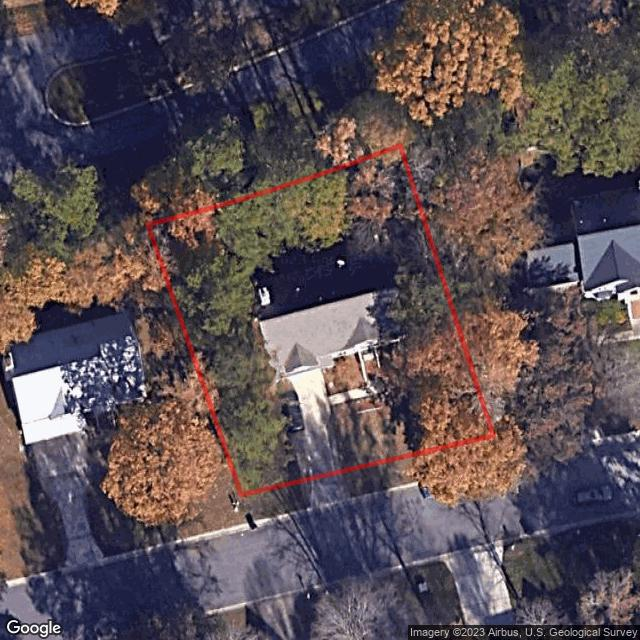Driveway: (278, 371, 343, 477)
Extra Driveway: (303, 474, 351, 509)
Extra Lawn: (343, 457, 415, 497), (241, 484, 307, 521)
House: (242, 230, 415, 380)
Other: (357, 349, 382, 395)
Sidewalk: (329, 389, 369, 404)
